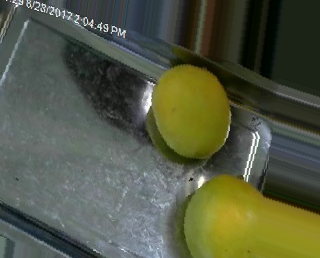Mango: (151, 63, 233, 159), (178, 174, 265, 257)
